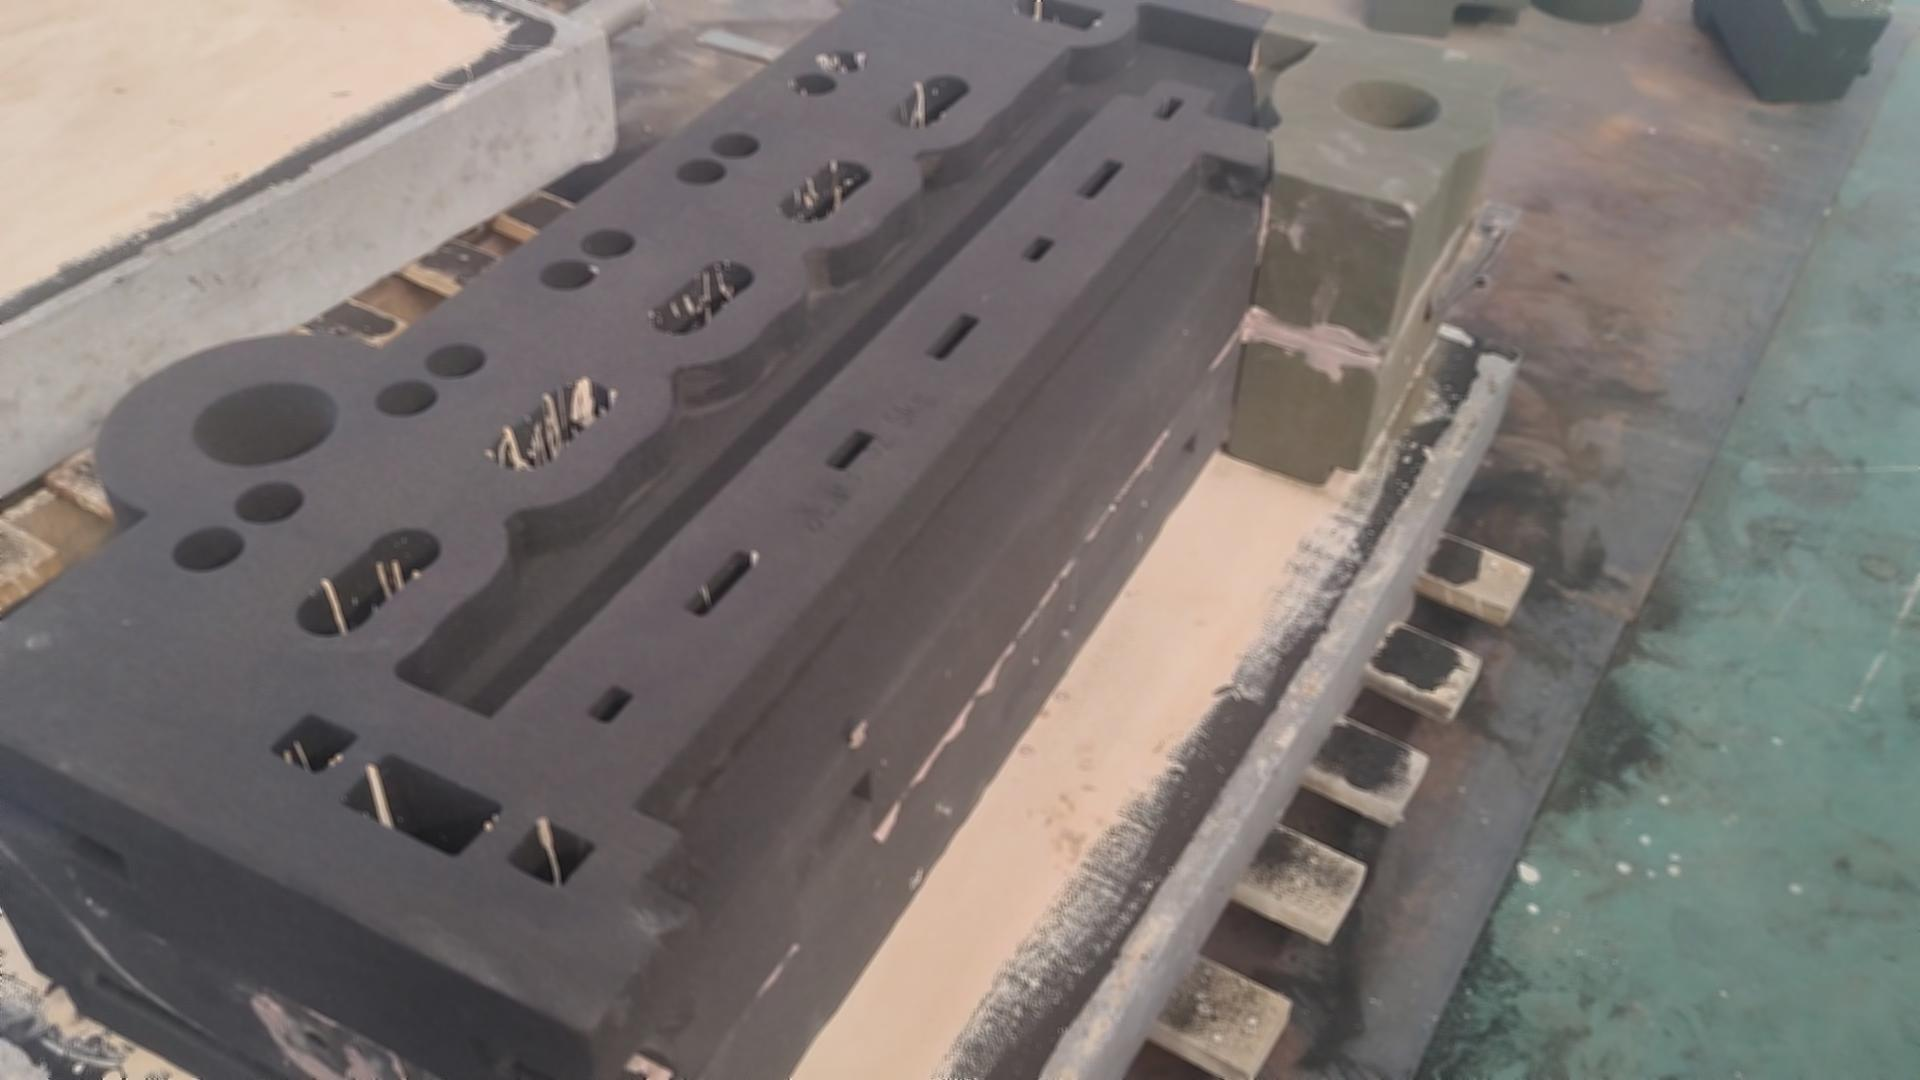pouring hole: (186, 378, 338, 467), (1335, 82, 1443, 131)
